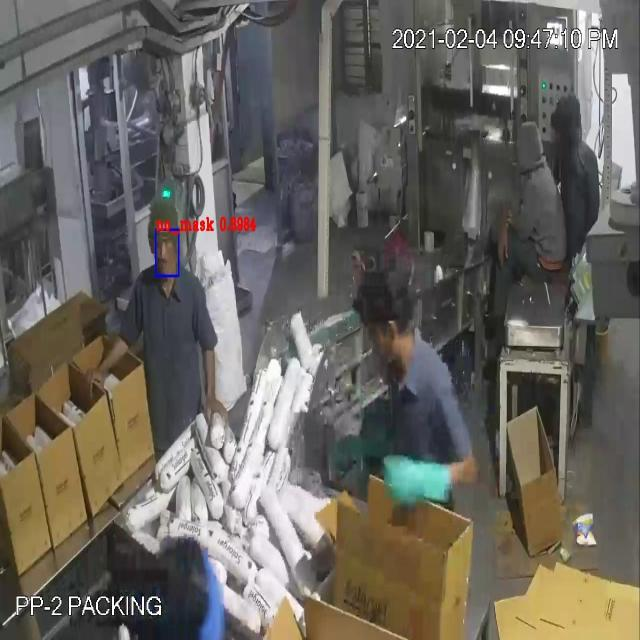gloves: (376, 442, 458, 524), (326, 434, 396, 484)
no-gloves: (186, 321, 230, 441), (76, 324, 124, 394), (496, 203, 512, 286)
